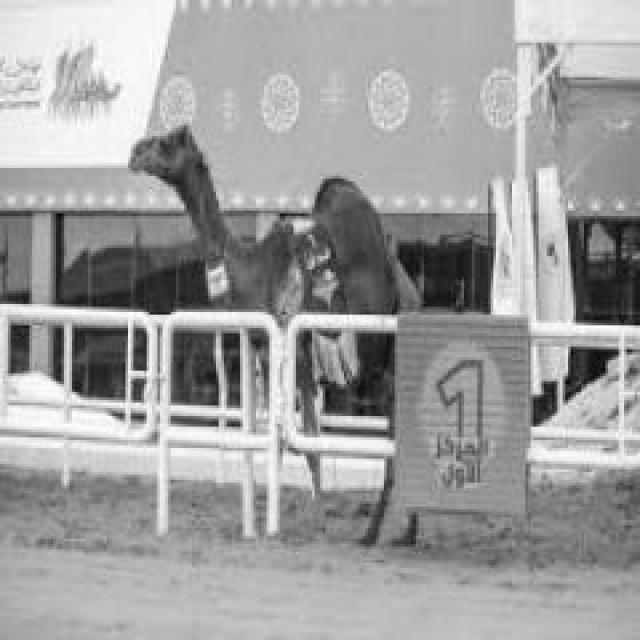Camel: (126, 123, 422, 544)
